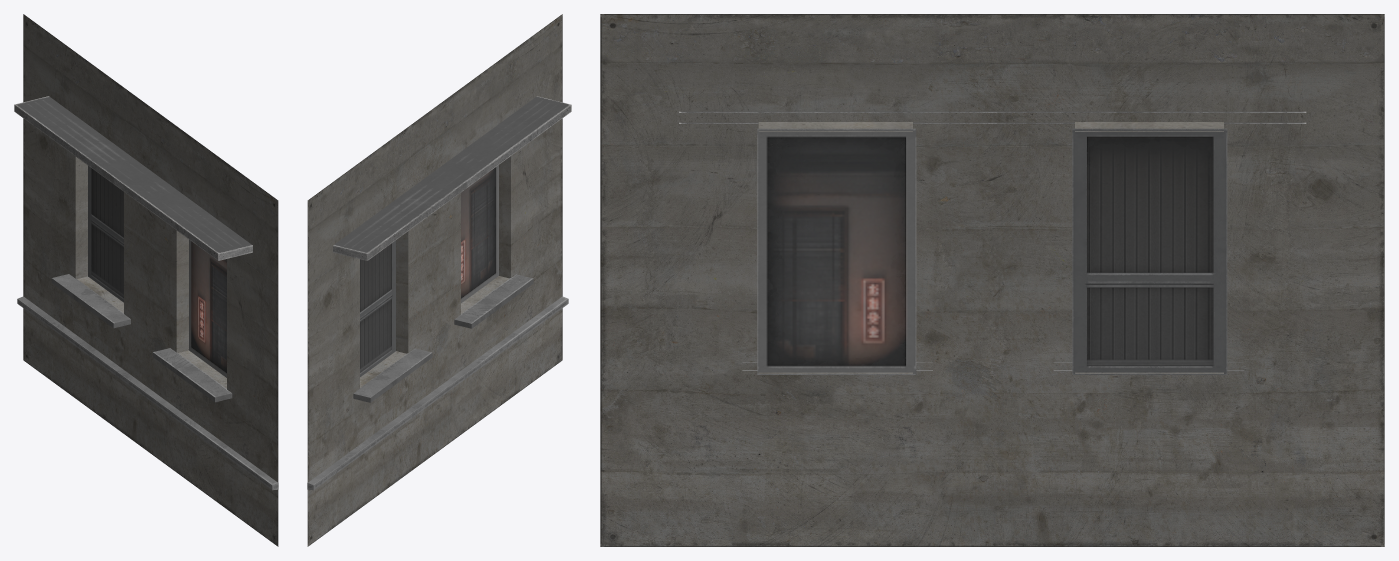
File: CP_Windows_A_4x3m_04.fbx
3 renders of one model, left to right at view 1: azimuth 30°, elevation 25°; view 2: azimuth 150°, elevation 25°; view 3: azimuth 270°, elevation 25°, orthographic. The views are drawn at different scales.
Visible parts, largest first — view 1: CP_Windows_A_4x3m_04; view 2: CP_Windows_A_4x3m_04; view 3: CP_Windows_A_4x3m_04.
Boxes of the visible parts, box(x1,y1,x2,y2) form: CP_Windows_A_4x3m_04: box(14, 14, 278, 546); CP_Windows_A_4x3m_04: box(307, 14, 571, 546); CP_Windows_A_4x3m_04: box(600, 14, 1384, 546).
Bounding box in the file's own units: 43.19 × 300 × 400.
